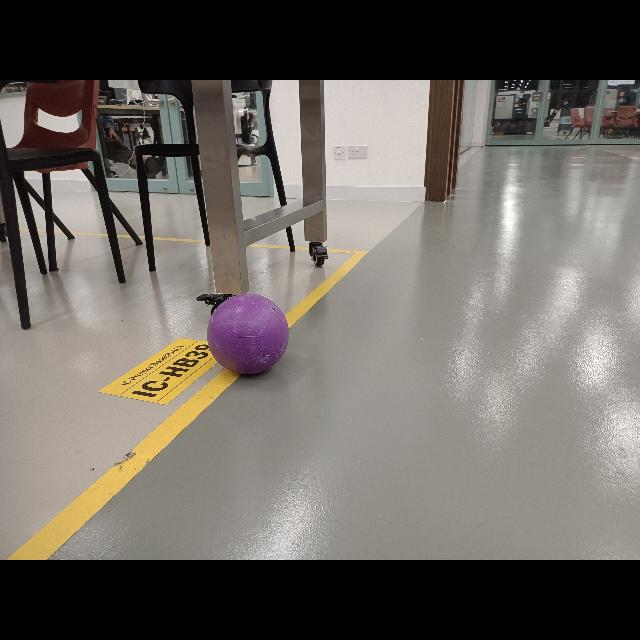P: (205, 288, 293, 382)
